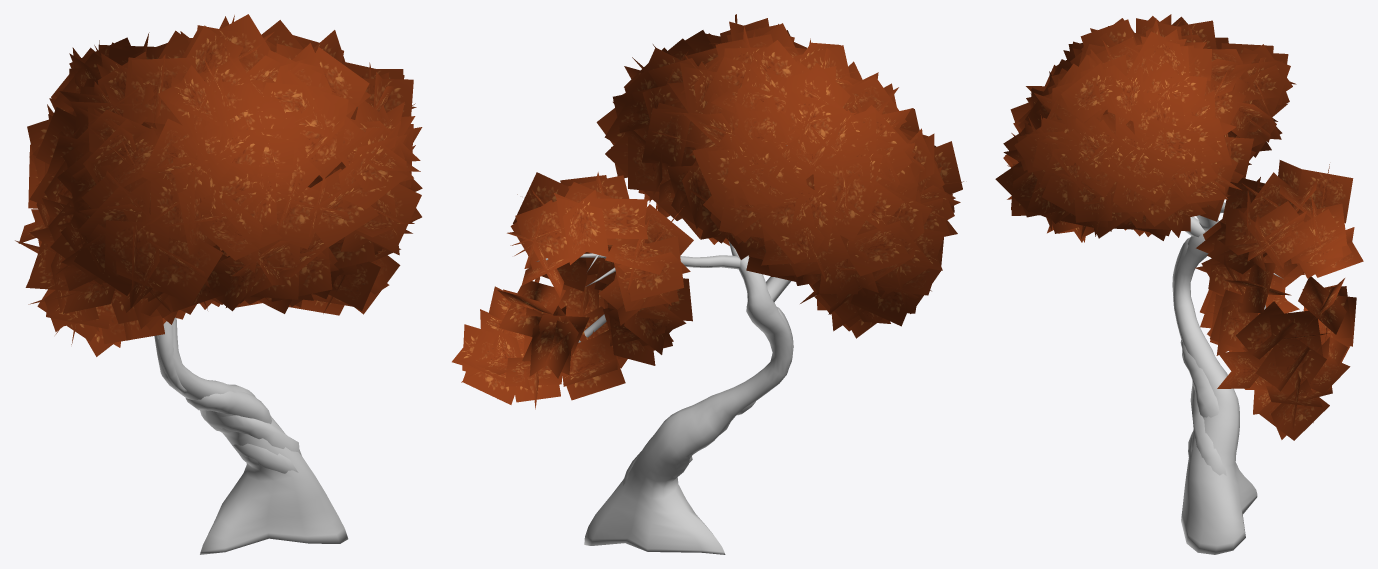
The model's file is Tree_D_L.fbx.
The picture shows the model from 3 angles, left to right: view 1: azimuth 30°, elevation 25°; view 2: azimuth 150°, elevation 25°; view 3: azimuth 270°, elevation 25°; orthographic projection. The views are drawn at different scales.
Parts seen in each view (by area): view 1: Tree_D_L_Leaves1, Tree_D_L, Tree_D_L_Leaves2; view 2: Tree_D_L_Leaves1, Tree_D_L_Leaves2, Tree_D_L; view 3: Tree_D_L_Leaves1, Tree_D_L_Leaves2, Tree_D_L.
Part boxes in pixels (bbox=[...]): Tree_D_L_Leaves1: bbox=[15, 14, 422, 356]; Tree_D_L: bbox=[154, 317, 348, 554]; Tree_D_L_Leaves2: bbox=[236, 248, 400, 315]; Tree_D_L_Leaves1: bbox=[596, 14, 963, 338]; Tree_D_L_Leaves2: bbox=[452, 172, 693, 409]; Tree_D_L: bbox=[537, 241, 793, 554]; Tree_D_L_Leaves1: bbox=[995, 14, 1296, 242]; Tree_D_L_Leaves2: bbox=[1195, 160, 1363, 440]; Tree_D_L: bbox=[1172, 202, 1282, 554].
Bounding box in the file's own units: 1829 × 2238 × 1588.
